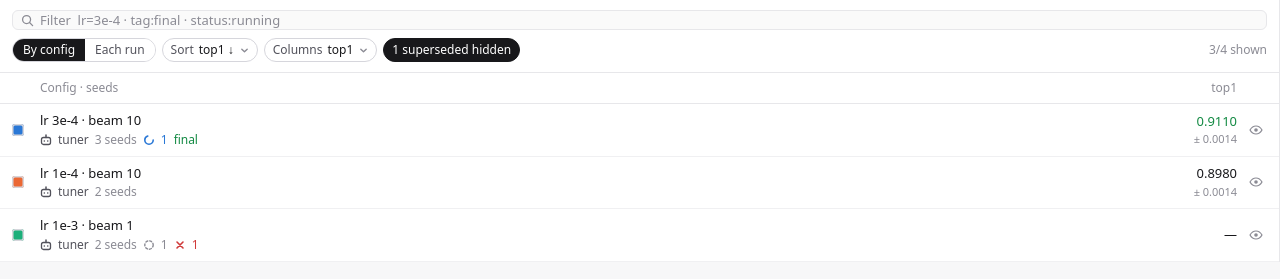
Test: RunsSidebar › a row that leaves the list takes its highlight with it
Type "beam=10" into the search field named "Filter runs". click: (649, 20)
box: [40,11,1258,29]
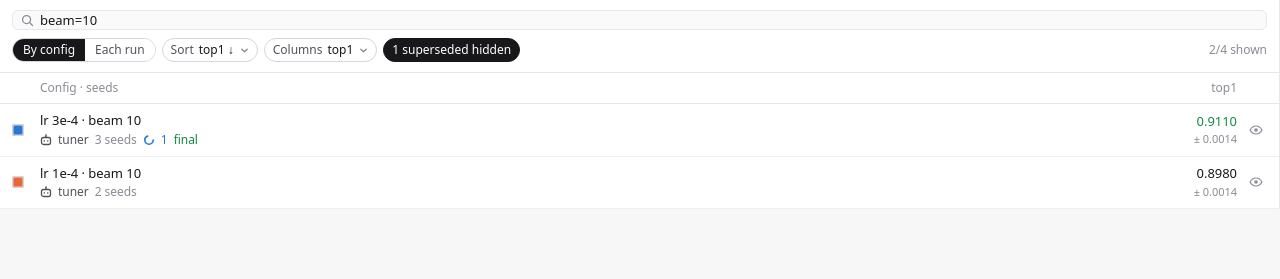
Expected: the number of list items is 2, [0,104,1279,156]; [0,156,1279,209]
